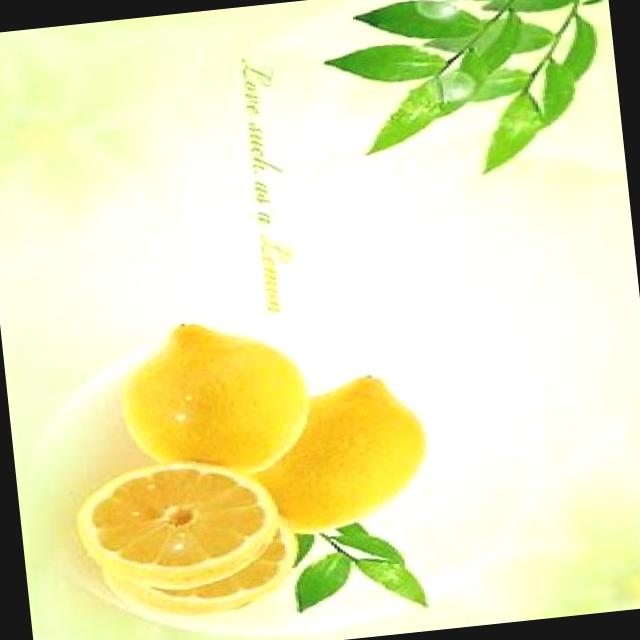lemon: (110, 299, 306, 486), (72, 448, 286, 597), (262, 366, 438, 543)
